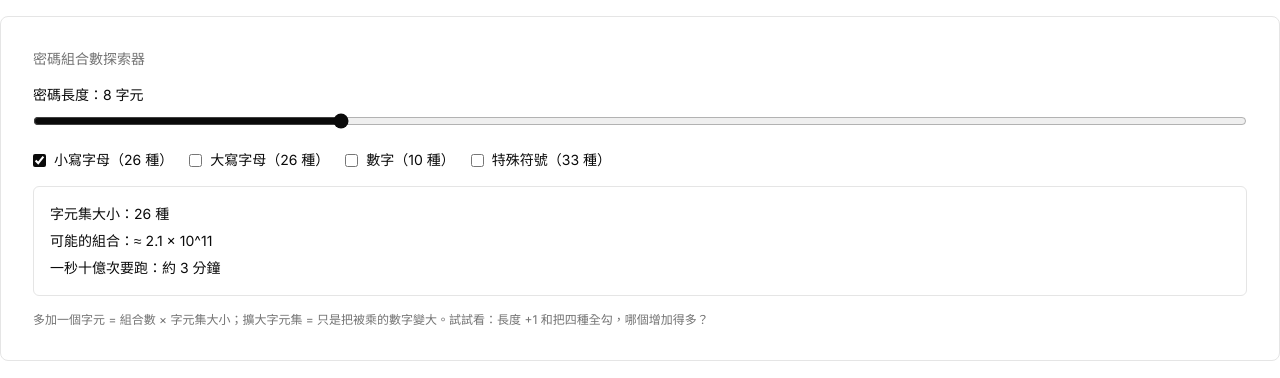
Test: PasswordEntropyExplorer › prompts to pick a charset when none are enabled
The image size is (1280, 378).
Step 1. Click the checkbox labelled "小寫字母（26 種）" → (40, 160), box [33,154,46,166]
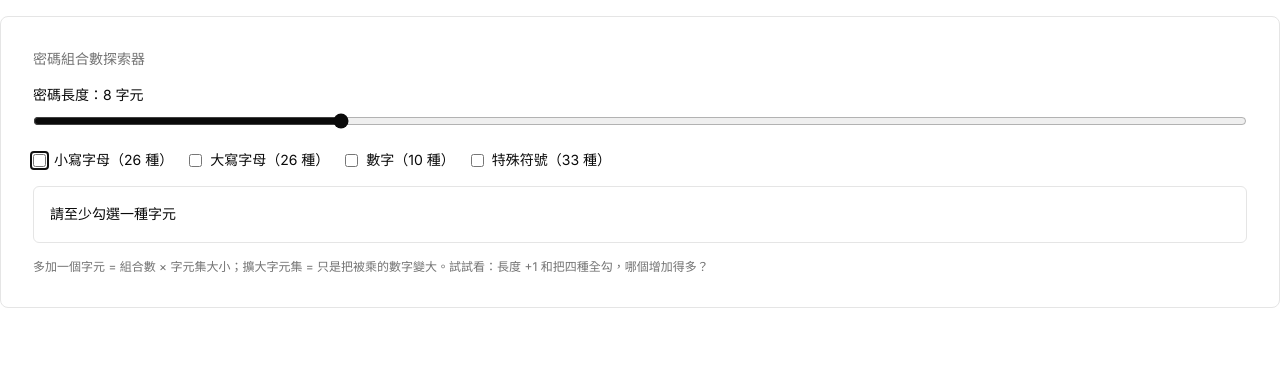
Check: the text "請至少勾選一種字元" is shown, box [50,205,176,222]
